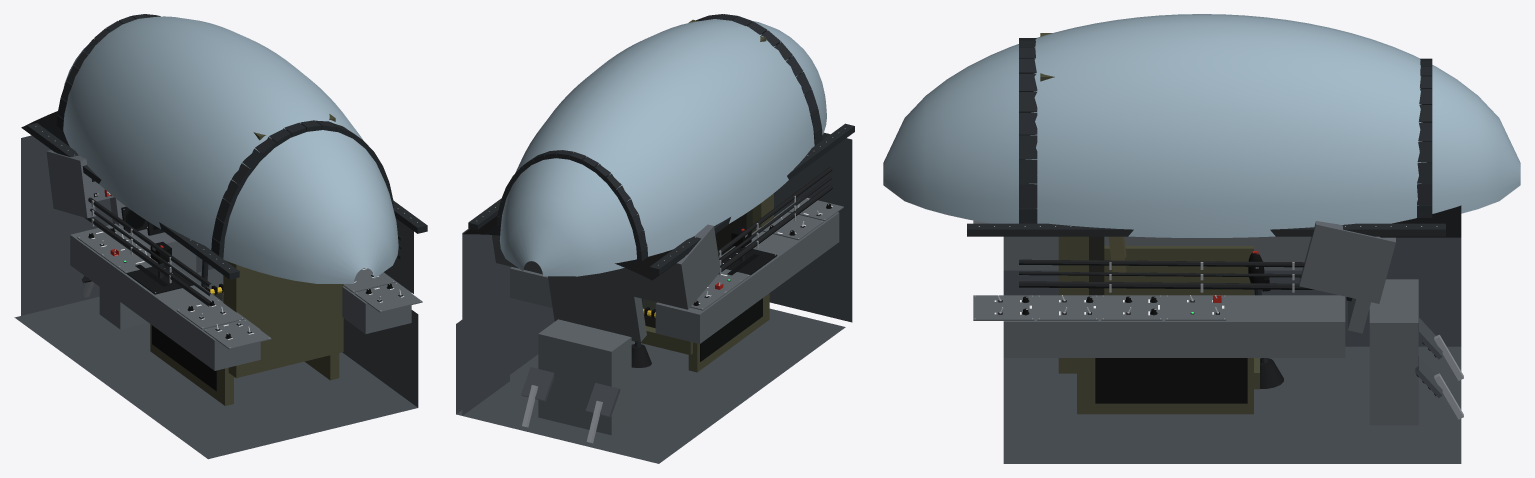
File: kit_tomcat.glb
3 views of the same model, side by side, from view 1: azimuth 30°, elevation 25°; view 2: azimuth 150°, elevation 25°; view 3: azimuth 270°, elevation 25° (orthographic). The views are drawn at different scales.
Visible parts, largest first — view 1: cockpit, CANOPY_GLASS; view 2: cockpit, CANOPY_GLASS, STICK; view 3: cockpit, CANOPY_GLASS, STICK.
Part boxes in pixels (x1=…): cockpit: x1=14, y1=14, x2=427, y2=459; CANOPY_GLASS: x1=63, y1=16, x2=398, y2=283; cockpit: x1=456, y1=14, x2=854, y2=463; CANOPY_GLASS: x1=499, y1=19, x2=826, y2=276; STICK: x1=631, y1=298, x2=651, y2=367; cockpit: x1=967, y1=33, x2=1463, y2=463; CANOPY_GLASS: x1=883, y1=14, x2=1520, y2=237; STICK: x1=1248, y1=250, x2=1283, y2=388.
Bounding box in the file's own units: 0.94 × 1.37 × 2.09.
